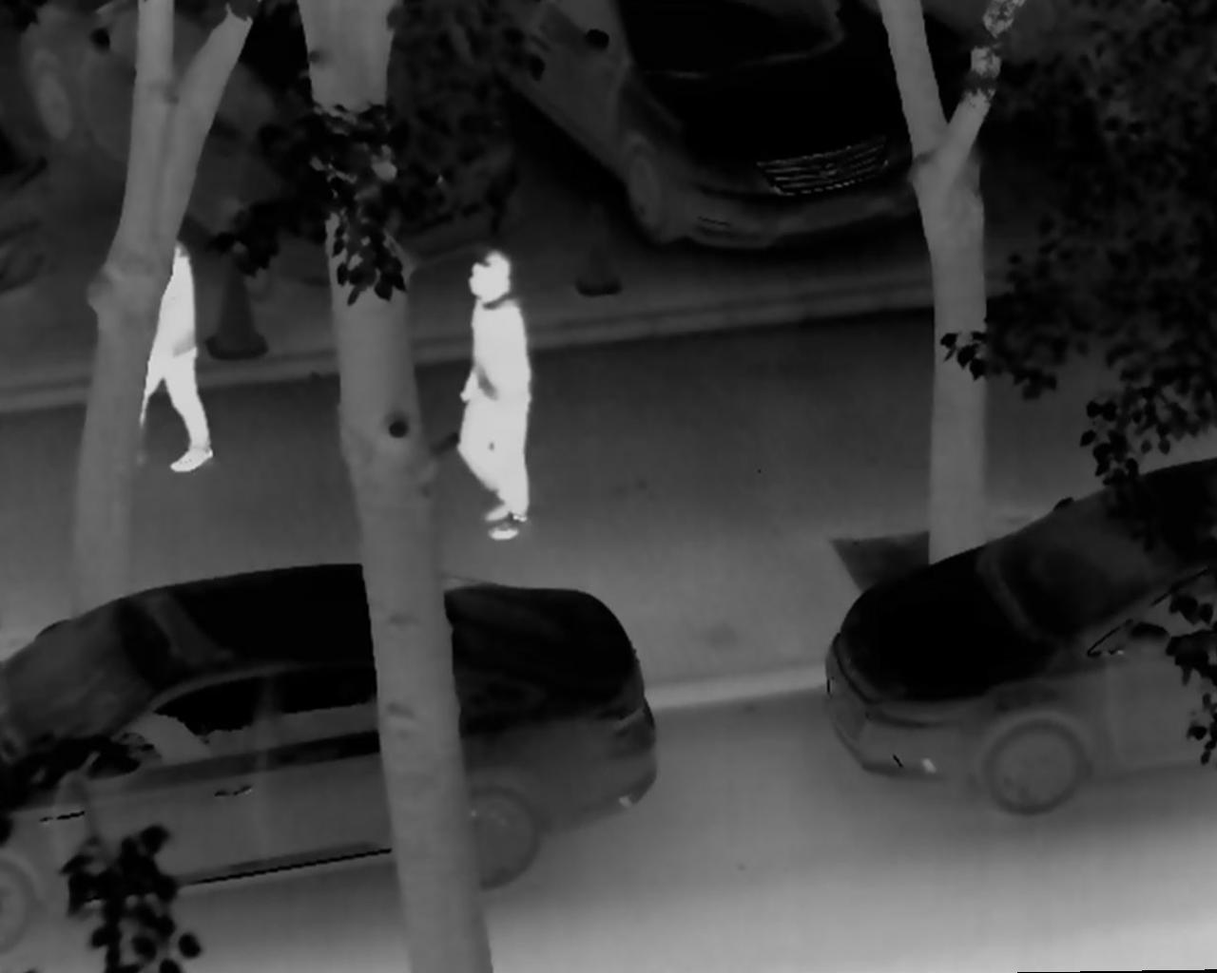person: (439, 247, 545, 544), (105, 204, 217, 477)
